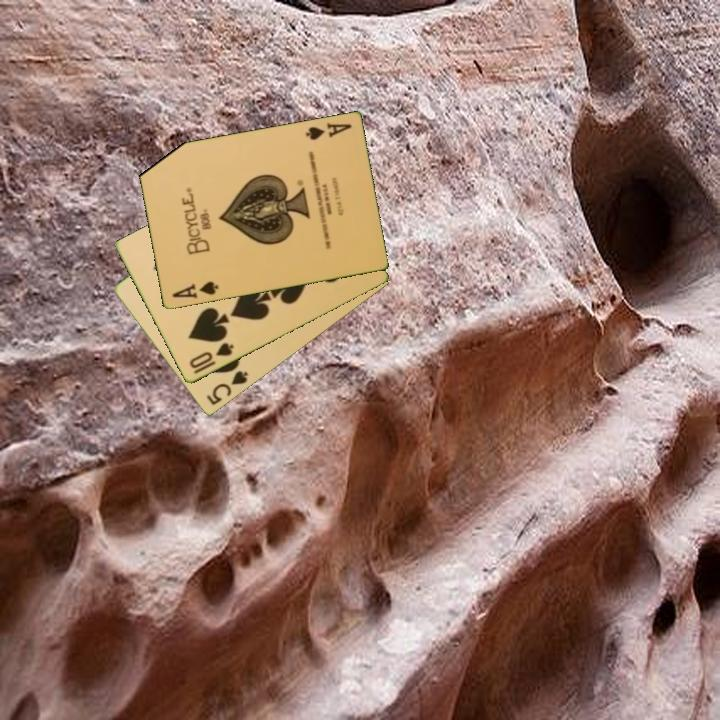10s: (186, 339, 237, 377)
5s: (203, 367, 251, 409)
As: (168, 278, 221, 302), (302, 120, 354, 143)
